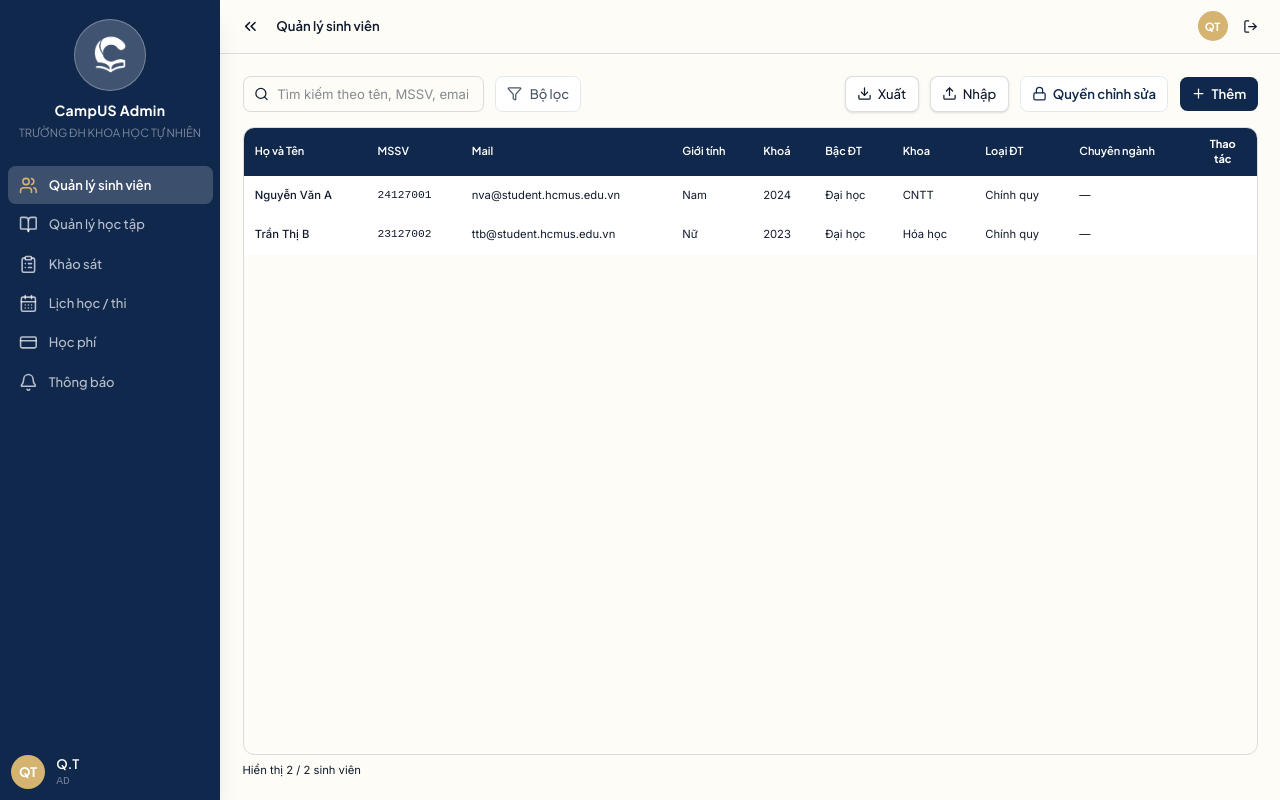
Test: Unit Test: View & Search Student Directory (UC 2.18) › [TC_2.18_01]: Verify text-based search functionality
Expected: the text "Nguyễn Văn A" is shown, 255,188 -> 332,202
Expected: the text "Trần Thị B" is shown, 255,227 -> 309,241
// Gõ tìm kiếm MSSV
Type "24127001" into the field with placeholder "Tìm kiếm theo tên, MSSV, email..." at (363, 94), box 242,76 -> 484,112
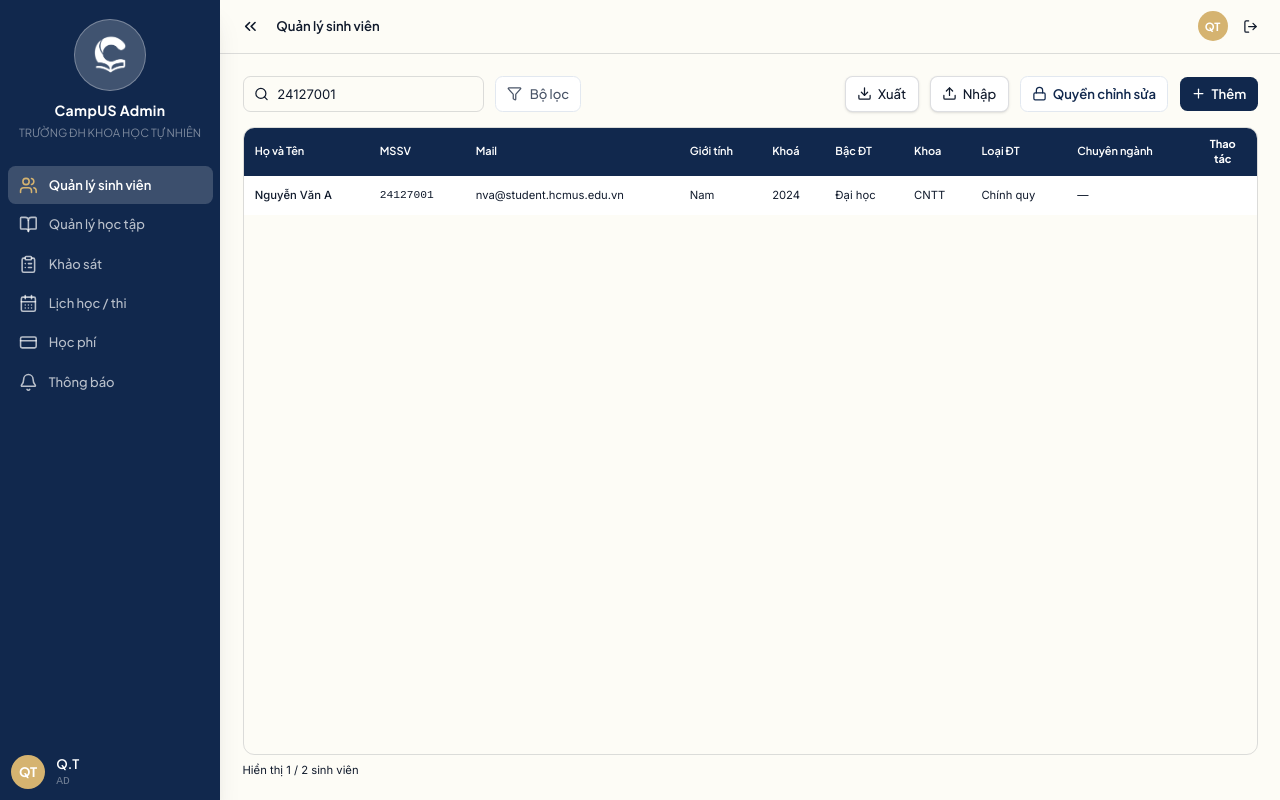
Expected: the text "Nguyễn Văn A" is shown, 255,188 -> 332,202
Expected: the text "Trần Thị B" is gone
Expected: the text "Hiển thị 1 / 2 sinh viên" is shown, 242,762 -> 359,776
